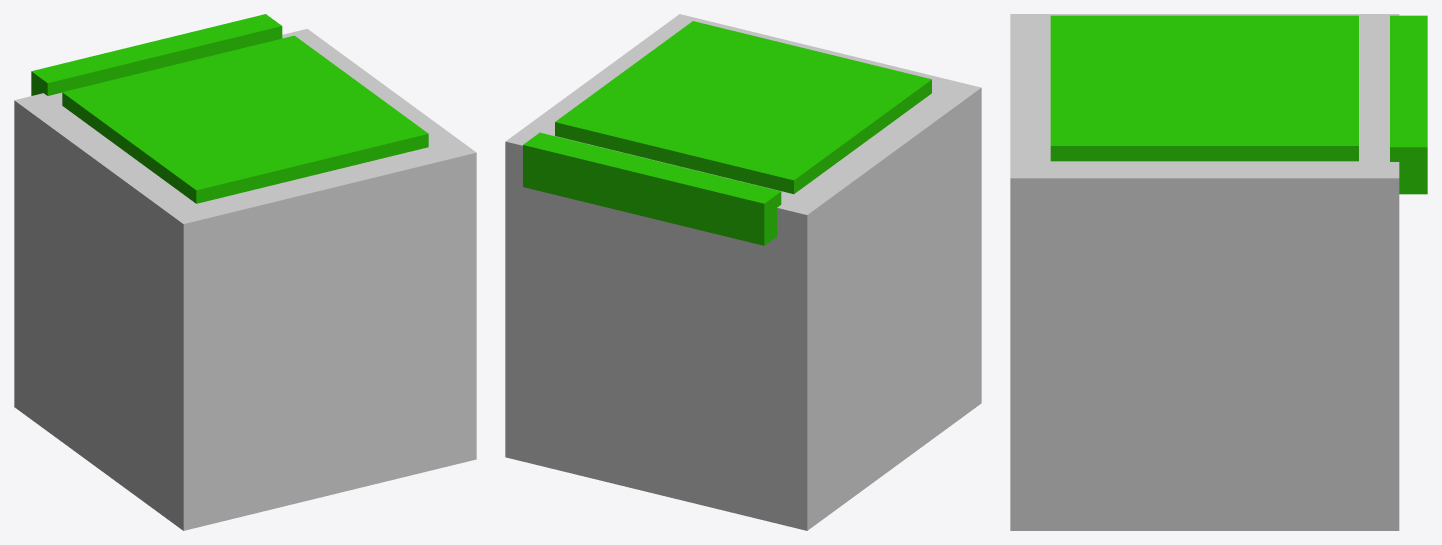
File: TileMetalBarHight.fbx
The picture shows the model from 3 angles, left to right: view 1: azimuth 30°, elevation 25°; view 2: azimuth 150°, elevation 25°; view 3: azimuth 270°, elevation 25°; orthographic projection. The views are drawn at different scales.
Visible parts, largest first — view 1: TileMetalBarHight; view 2: TileMetalBarHight; view 3: TileMetalBarHight.
Part boxes in pixels (x1,y1,x2,y2): TileMetalBarHight: [14, 14, 476, 530]; TileMetalBarHight: [505, 14, 981, 530]; TileMetalBarHight: [1010, 14, 1427, 530].
Size of the model in its own units: 100 by 104 by 107.
